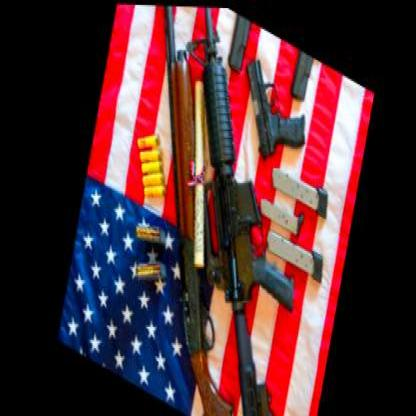pistol: (228, 48, 315, 175), (222, 8, 286, 91), (286, 45, 352, 122)
